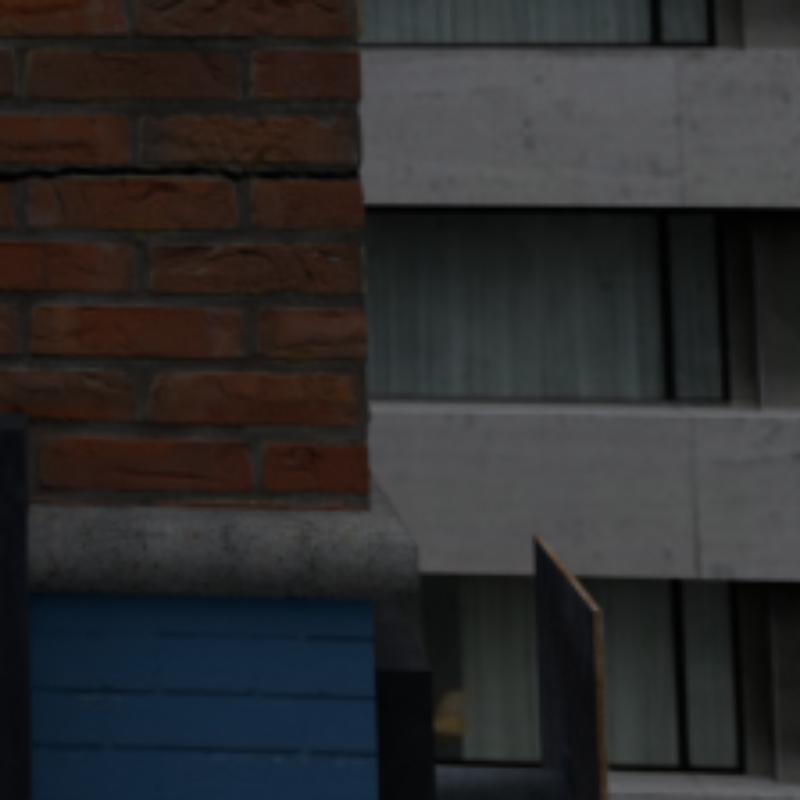pothole: (0, 168, 361, 182)
